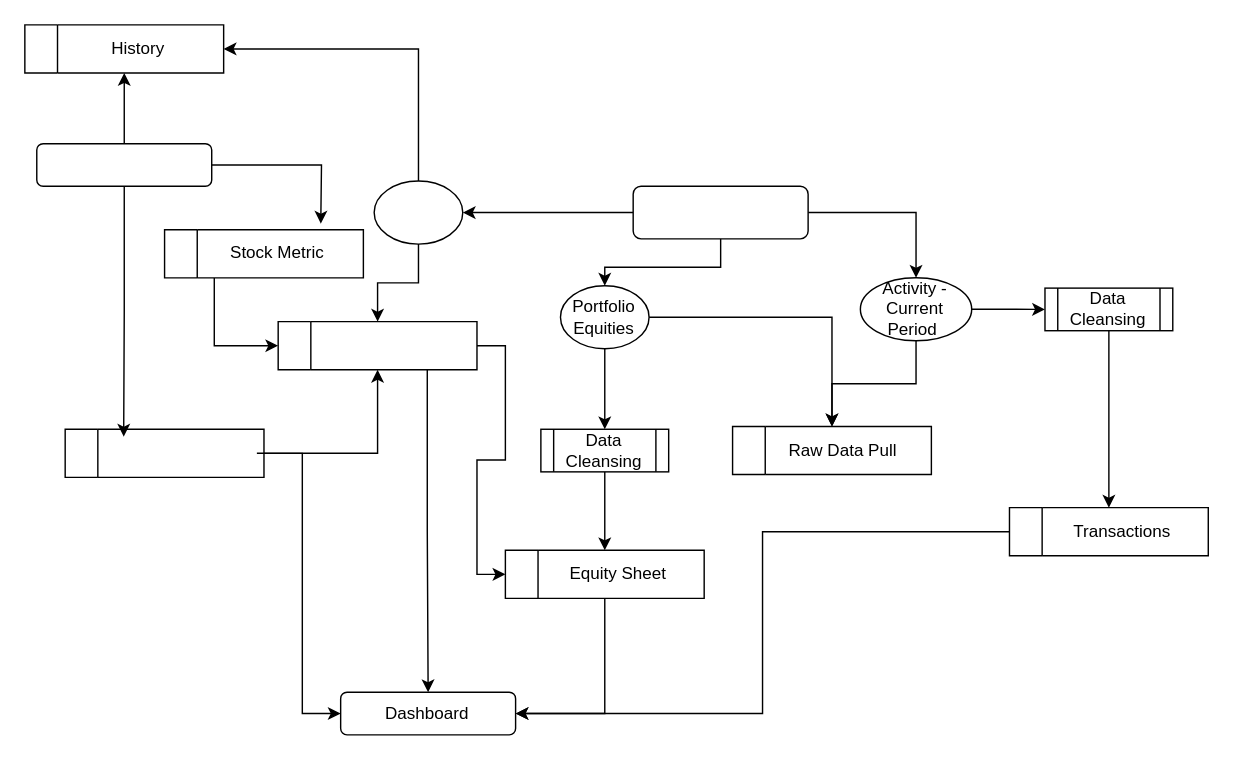
This 1234x760 diagram has some shape labels left out. Here are the shapes that lost their labels. From the top down, the box of each, then its label:
(35, 142, 212, 186): YFinance
(373, 180, 463, 244): Ticker
(632, 185, 808, 239): Monthly Wealthsimple FIle
(277, 320, 477, 370): Stock Table
(64, 428, 264, 477): Stock Description
